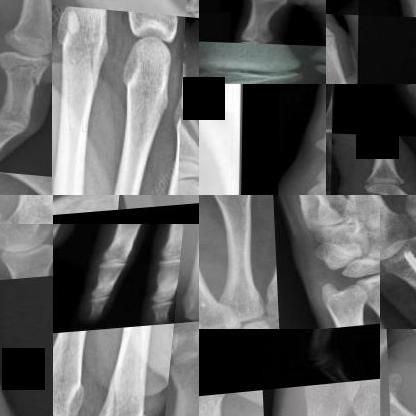fracture: (74, 41, 107, 109), (107, 357, 144, 415), (0, 54, 53, 90), (395, 238, 415, 329), (183, 72, 198, 134), (229, 395, 261, 415), (0, 195, 16, 224), (353, 133, 397, 142)
